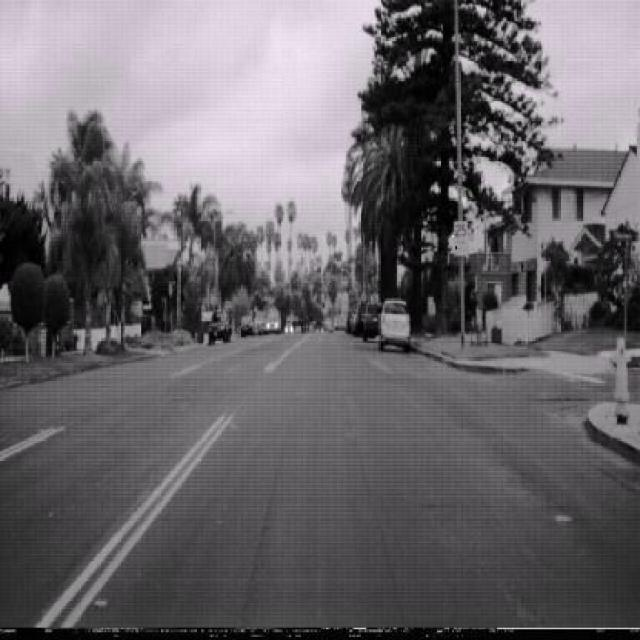zoneAhead25: (454, 220, 469, 257)
